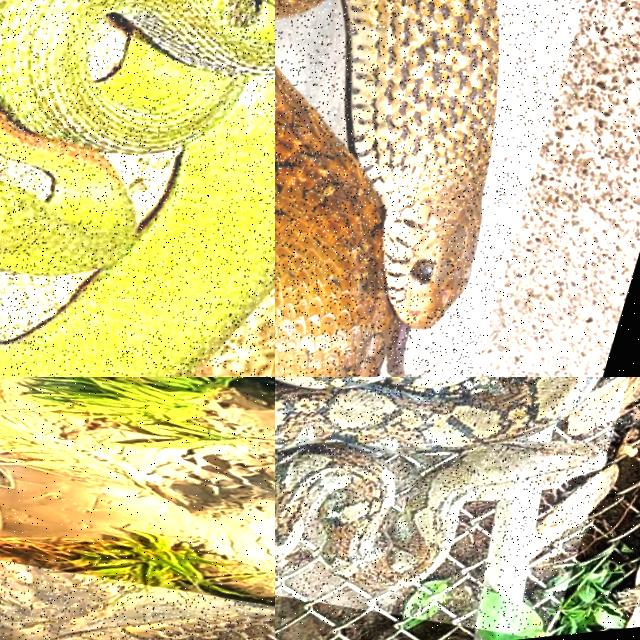Malayopython reticulatus: (275, 377, 605, 589)
Naja kaouthia: (275, 0, 498, 376)
Python bivittatus: (49, 613, 274, 639)
Trimeresurus: (0, 0, 274, 376)
